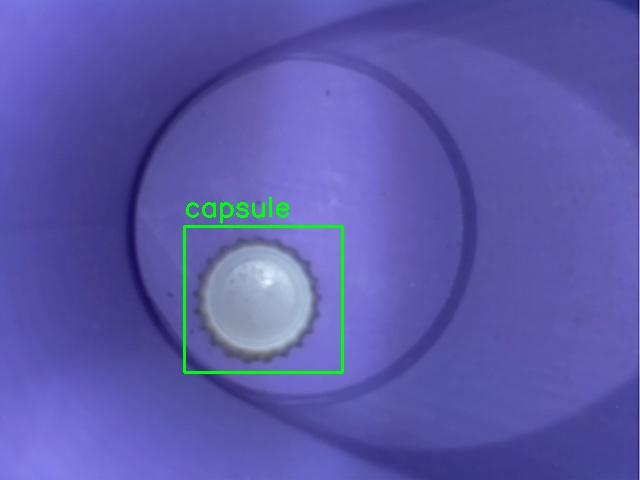capsule: (184, 226, 342, 372)
